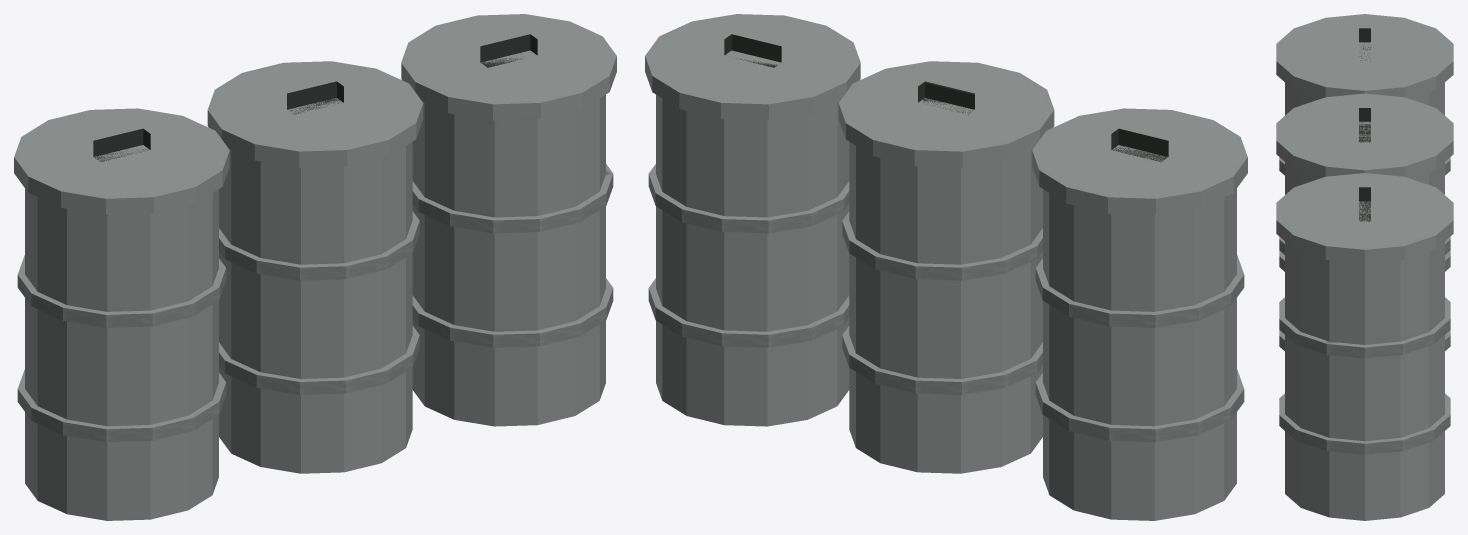
The model's file is popelnice_6994da60.glb.
The picture shows the model from 3 angles, left to right: view 1: azimuth 30°, elevation 25°; view 2: azimuth 150°, elevation 25°; view 3: azimuth 270°, elevation 25°; orthographic projection. The views are drawn at different scales.
Visible parts, largest first — view 1: dum; view 2: dum; view 3: dum.
Boxes of the visible parts, x1,y1,x2,y2 form: dum: (14, 14, 616, 520); dum: (645, 14, 1247, 520); dum: (1276, 14, 1453, 520).
Bounding box in the file's own units: 1.84 × 1.05 × 0.5834.
1 material, 1 textured.
